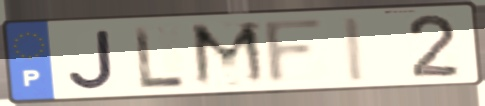2: (405, 12, 465, 80)
F: (260, 15, 329, 88)
I: (340, 14, 369, 84)
J: (66, 27, 118, 91)
L: (131, 24, 188, 92)
M: (187, 19, 272, 90)
